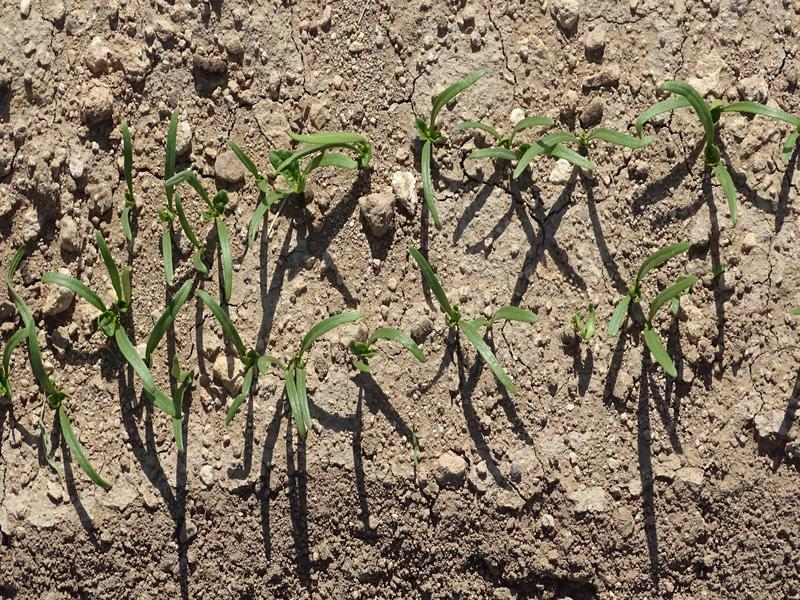Espinaca: (417, 77, 797, 220), (5, 257, 216, 492), (158, 115, 375, 254), (219, 304, 368, 439), (405, 241, 526, 397), (606, 235, 704, 380), (119, 128, 140, 239)
